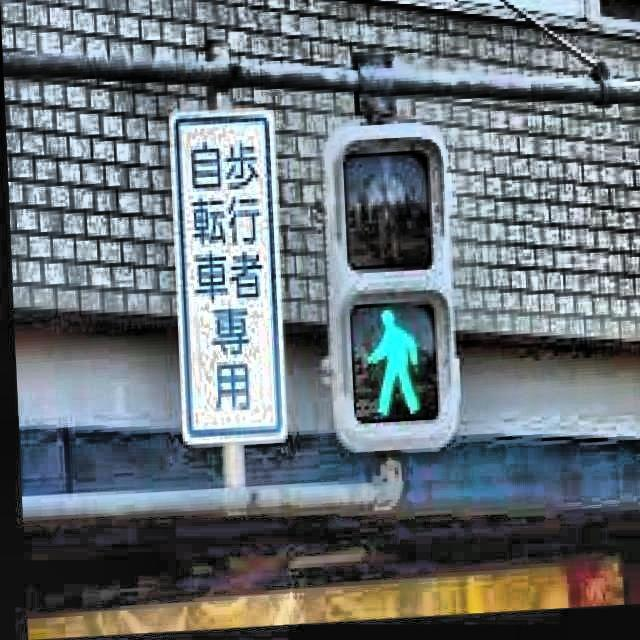semaforo pedestre: (151, 64, 524, 582), (318, 292, 448, 454)
